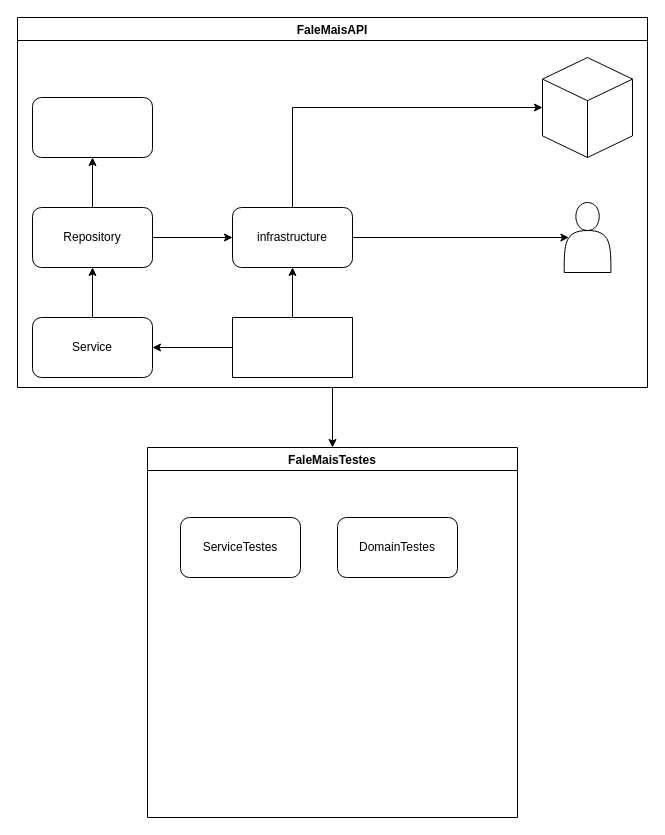
Image size: 665x835. Some labels were removed from this diagram. Each missing label, with the centre of its shape:
Auth: pixel 587 237
Database: pixel 587 107
Domain (entidades): pixel 92 127
Program: pixel 292 347
